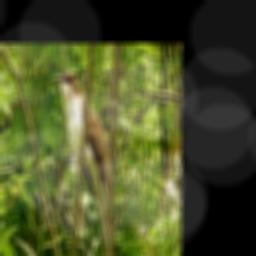Cuckoo: (53, 69, 112, 256)
